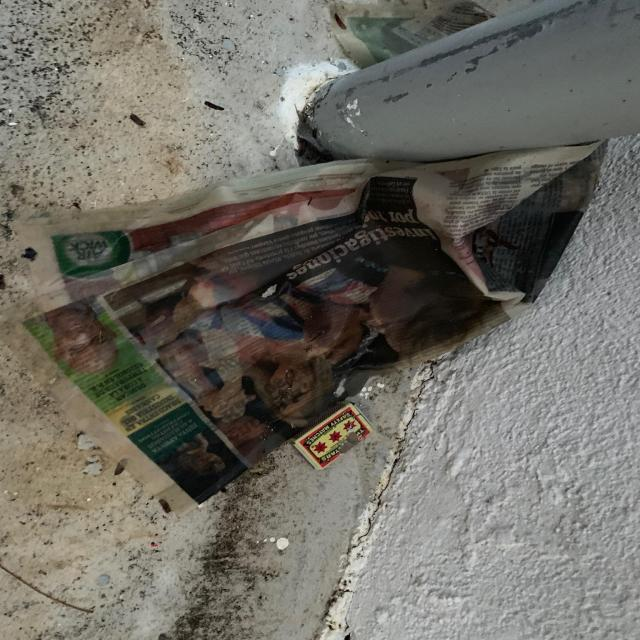litter: (8, 138, 608, 515), (291, 401, 376, 470)
